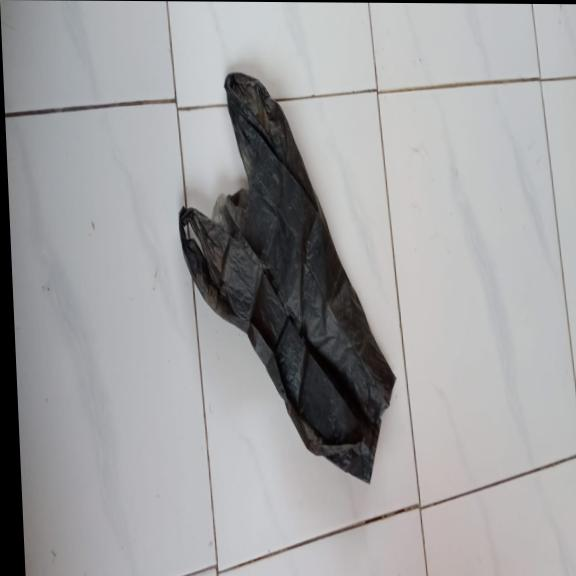Plastik: (173, 71, 403, 489)
